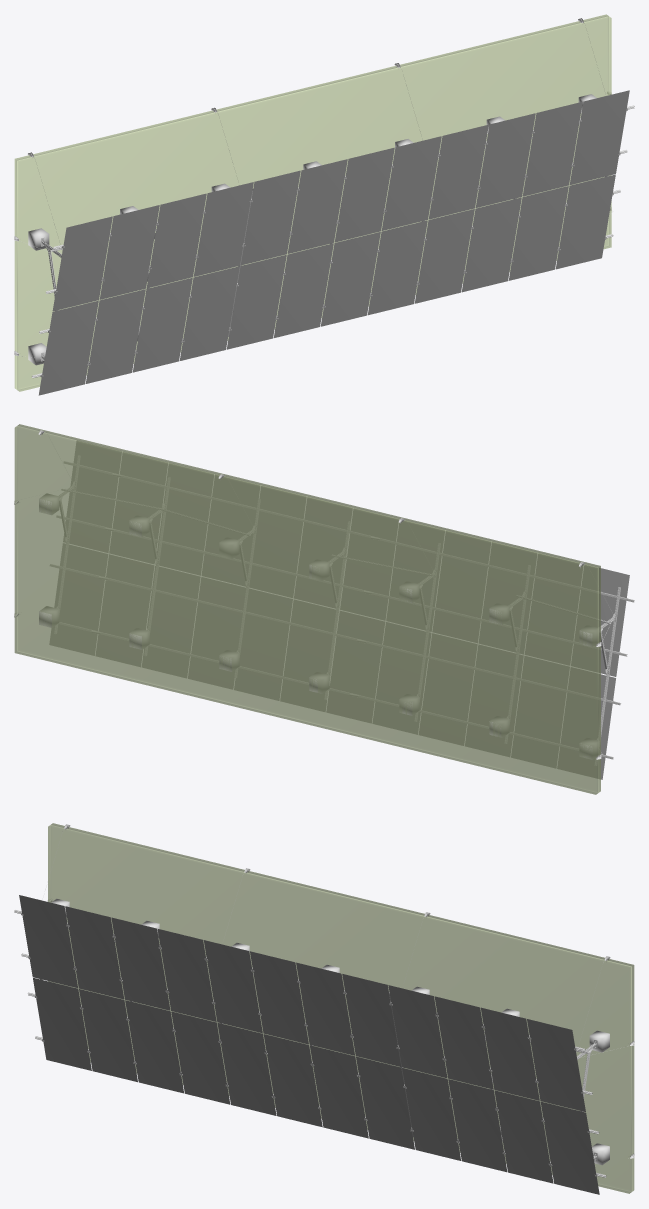
The picture shows the model from 3 angles, top to bottom: view 1: azimuth 30°, elevation 25°; view 2: azimuth 150°, elevation 25°; view 3: azimuth 330°, elevation 25°; orthographic projection.
Visible parts, largest first — view 1: FamilySymbol 常规模型 <13972652 ZUJ043 JAM72S20-460/MR（35框） 460W (×20), FamilySymbol 常规模型 <13969664 光伏楼板>, FamilySymbol 常规模型 <13972642 ZUJ043 JAM72S20-460/MR（35框） 460W (×2), FamilySymbol 常规模型 <13972705 ZUJ043 JAM72S20-460/MR（35框） 460W (×2), FamilySymbol 常规模型 <13970437 72版型166电池2竖>; view 2: FamilySymbol 常规模型 <13969664 光伏楼板>, FamilySymbol 常规模型 <13972652 ZUJ043 JAM72S20-460/MR（35框） 460W (×20), FamilySymbol 常规模型 <13972705 ZUJ043 JAM72S20-460/MR（35框） 460W (×2), FamilySymbol 常规模型 <13972642 ZUJ043 JAM72S20-460/MR（35框） 460W (×2), FamilySymbol 结构框架 <13972315 ZHJ045 S350GDU41*52*1.6*6000 mr> (×4), FamilySymbol 常规模型 <13970437 72版型166电池2竖> (×4), FamilySymbol 常规模型 <13971038 72版型166电池2竖> (×3), FamilySymbol 结构框架 <13970849 ZHJ046 S350GDU41*52*2.0*6000 mr>; view 3: FamilySymbol 常规模型 <13972652 ZUJ043 JAM72S20-460/MR（35框） 460W (×20), FamilySymbol 常规模型 <13969664 光伏楼板>, FamilySymbol 常规模型 <13972642 ZUJ043 JAM72S20-460/MR（35框） 460W (×2), FamilySymbol 常规模型 <13972705 ZUJ043 JAM72S20-460/MR（35框） 460W (×2), FamilySymbol 常规模型 <13970437 72版型166电池2竖>.
Part boxes in pixels (x1,y1,x2,y2): FamilySymbol 常规模型 <13972652 ZUJ043 JAM72S20-460/MR（35框） 460W (×20): (85,102,582,383); FamilySymbol 常规模型 <13969664 光伏楼板>: (14,14,611,391); FamilySymbol 常规模型 <13972642 ZUJ043 JAM72S20-460/MR（35框） 460W (×2): (38,216,112,395); FamilySymbol 常规模型 <13972705 ZUJ043 JAM72S20-460/MR（35框） 460W (×2): (555,90,629,269); FamilySymbol 常规模型 <13970437 72版型166电池2竖>: (28,228,49,365); FamilySymbol 常规模型 <13969664 光伏楼板>: (14,424,600,794); FamilySymbol 常规模型 <13972652 ZUJ043 JAM72S20-460/MR（35框） 460W (×20): (96,452,582,767); FamilySymbol 常规模型 <13972705 ZUJ043 JAM72S20-460/MR（35框） 460W (×2): (49,440,121,655); FamilySymbol 常规模型 <13972642 ZUJ043 JAM72S20-460/MR（35框） 460W (×2): (557,564,629,779); FamilySymbol 结构框架 <13972315 ZHJ045 S350GDU41*52*1.6*6000 mr> (×4): (50,461,634,759); FamilySymbol 常规模型 <13970437 72版型166电池2竖> (×4): (39,494,599,759); FamilySymbol 常规模型 <13971038 72版型166电池2竖> (×3): (129,516,509,737); FamilySymbol 结构框架 <13970849 ZHJ046 S350GDU41*52*2.0*6000 mr>: (595,587,620,765); FamilySymbol 常规模型 <13972652 ZUJ043 JAM72S20-460/MR（35框） 460W (×20): (65,906,553,1183); FamilySymbol 常规模型 <13969664 光伏楼板>: (48,823,634,1193); FamilySymbol 常规模型 <13972642 ZUJ043 JAM72S20-460/MR（35框） 460W (×2): (19,895,91,1070); FamilySymbol 常规模型 <13972705 ZUJ043 JAM72S20-460/MR（35框） 460W (×2): (527,1019,599,1194); FamilySymbol 常规模型 <13970437 72版型166电池2竖>: (589,1030,609,1165).
Size of the model in its own units: 13620 by 5060 by 1754.
